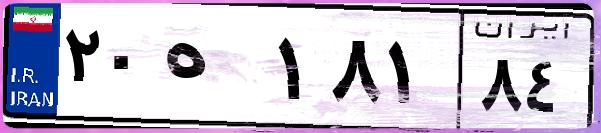0: (110, 28, 158, 98)
1: (270, 28, 330, 110), (385, 28, 445, 110)
2: (57, 26, 110, 100)
4: (525, 38, 570, 115)
8: (330, 28, 385, 110), (475, 38, 525, 113)
ه: (158, 20, 270, 120)
